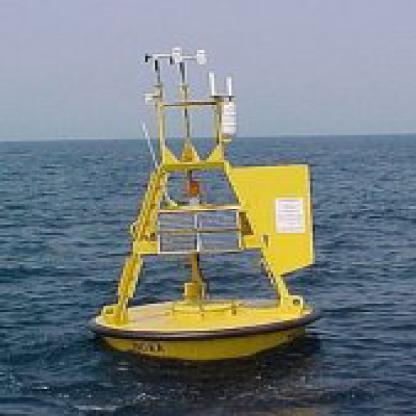buoy: (76, 44, 338, 370)
